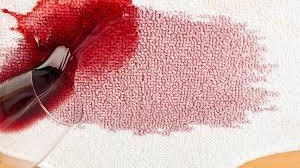wine: (60, 21, 253, 131), (20, 5, 129, 80)
